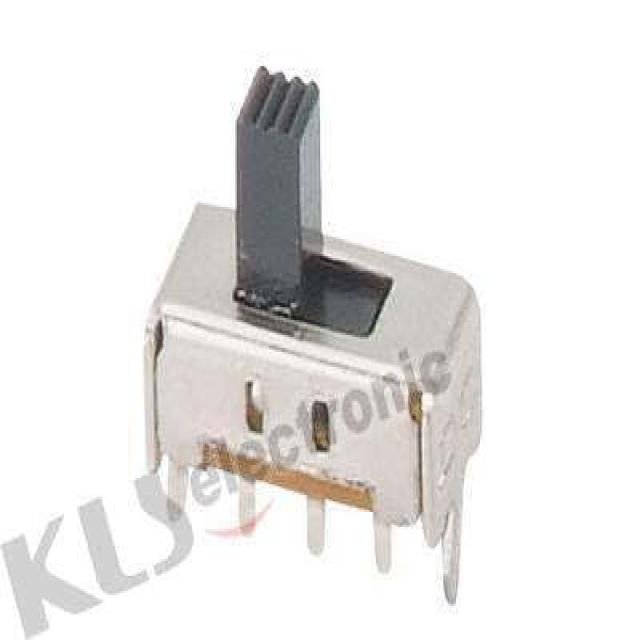switch: (138, 60, 530, 612)
